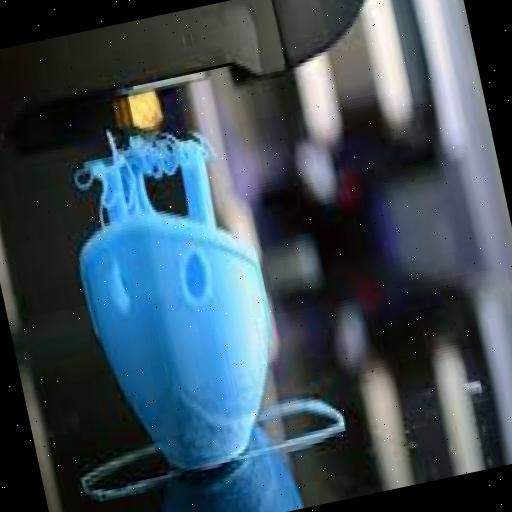spaghetti: (66, 102, 234, 223)
